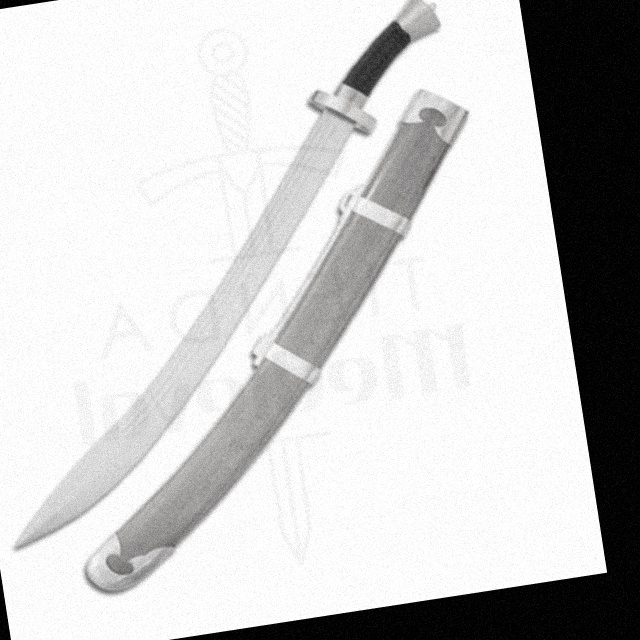Sharp-Object: (0, 0, 512, 554)
